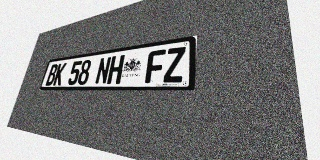5: (67, 60, 82, 85)
8: (76, 59, 92, 85)
B: (45, 64, 59, 86)
F: (145, 49, 166, 83)
H: (107, 55, 125, 84)
K: (53, 63, 67, 85)
N: (94, 56, 112, 84)
Z: (163, 46, 186, 83)
